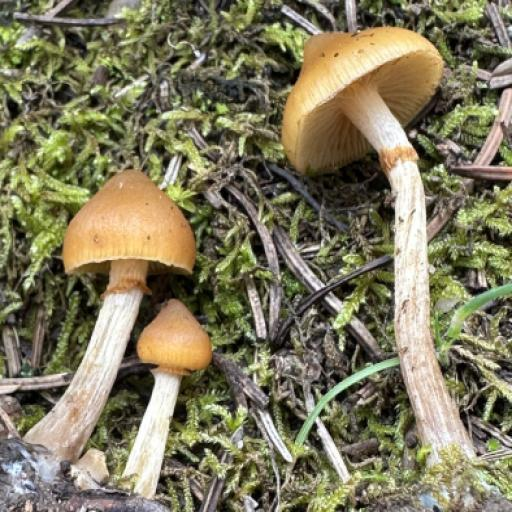mushroom: (278, 17, 452, 416), (40, 156, 220, 443)
